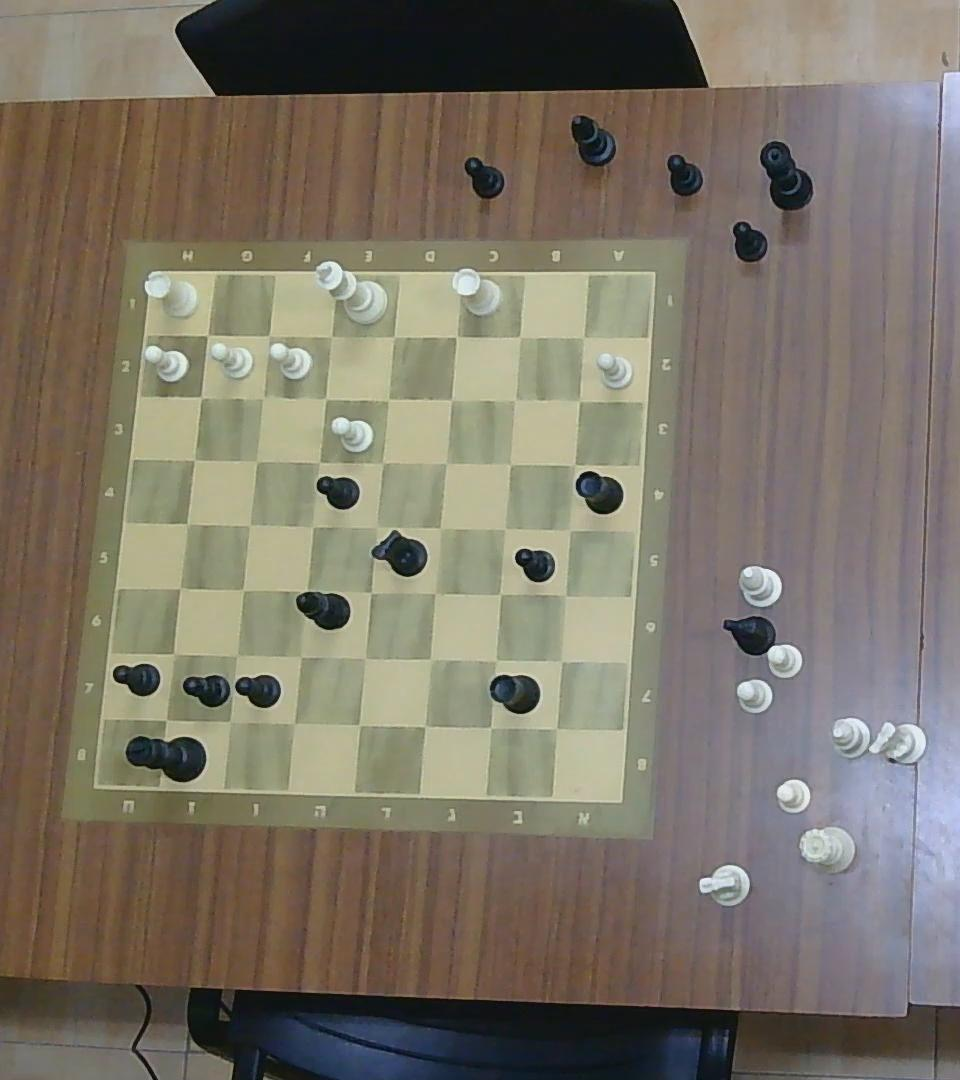xcorner: (213, 707, 246, 737), (149, 705, 183, 734), (432, 324, 472, 348), (541, 714, 571, 744), (475, 712, 503, 744), (189, 322, 218, 352), (286, 643, 315, 673), (279, 710, 308, 738), (421, 647, 447, 678), (376, 326, 409, 350), (504, 322, 532, 350), (356, 580, 385, 606), (310, 387, 340, 412), (552, 582, 579, 609), (550, 648, 578, 674), (167, 574, 192, 603), (160, 641, 186, 668), (425, 515, 452, 540), (491, 515, 516, 542), (348, 712, 373, 739), (484, 647, 507, 676), (412, 713, 437, 739), (373, 388, 402, 410), (362, 515, 385, 542), (484, 582, 511, 605), (495, 454, 523, 476), (174, 512, 200, 535), (253, 325, 278, 348), (371, 449, 393, 475), (556, 520, 582, 542), (232, 577, 253, 604), (502, 389, 526, 412), (430, 453, 453, 477), (238, 512, 261, 536), (224, 643, 247, 667), (251, 387, 276, 409), (244, 450, 267, 473), (355, 646, 376, 671), (306, 451, 328, 474), (303, 515, 324, 539), (292, 580, 316, 601), (558, 456, 584, 475), (569, 327, 594, 346), (420, 582, 442, 603), (438, 388, 462, 407), (320, 324, 338, 349), (184, 451, 205, 472), (570, 392, 593, 411), (192, 390, 212, 406)
